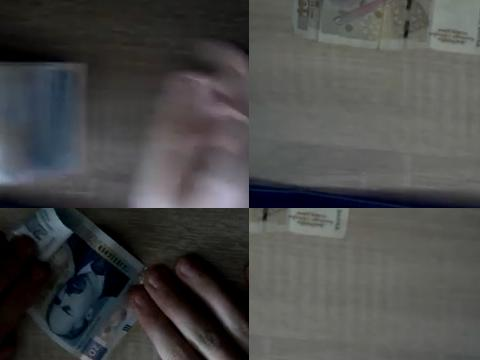20leva: (15, 208, 144, 360)
